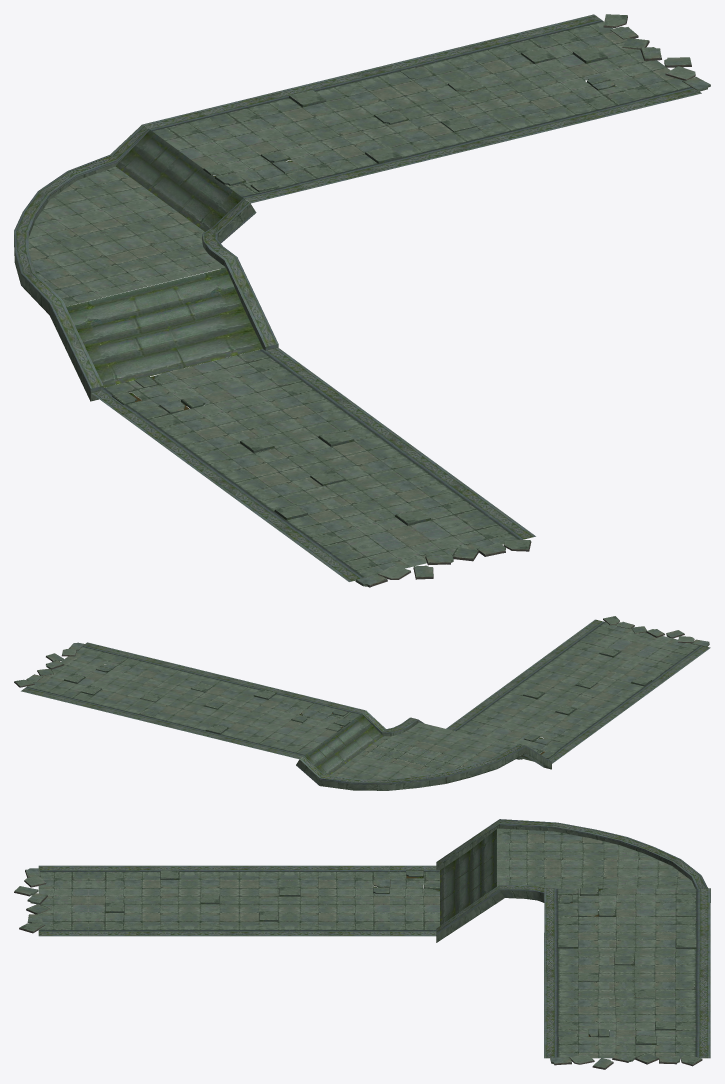
Rendered from SC102Jguodao_20.FBX.
3 views of the same model, one above another, from view 1: azimuth 30°, elevation 25°; view 2: azimuth 150°, elevation 25°; view 3: azimuth 270°, elevation 25° (orthographic). The views are drawn at different scales.
Visible parts, largest first — view 1: SC102Jguodao_20 (×2); view 2: SC102Jguodao_20 (×2); view 3: SC102Jguodao_20 (×2).
Boxes of the visible parts, box(x1,y1,x2,y2) form: SC102Jguodao_20 (×2): box(14, 14, 701, 581); SC102Jguodao_20 (×2): box(21, 619, 710, 790); SC102Jguodao_20 (×2): box(38, 819, 710, 1058).
Bounding box in the file's own units: 20.22 × 2.56 × 22.33.
